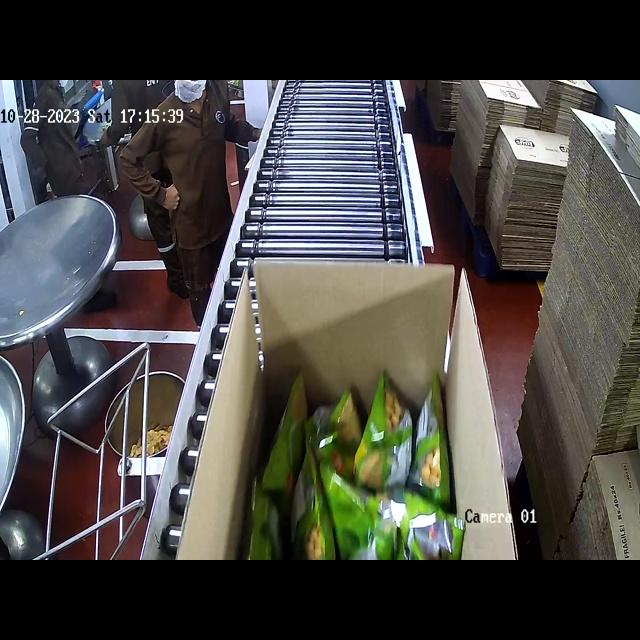yogurt: (274, 369, 461, 560)
